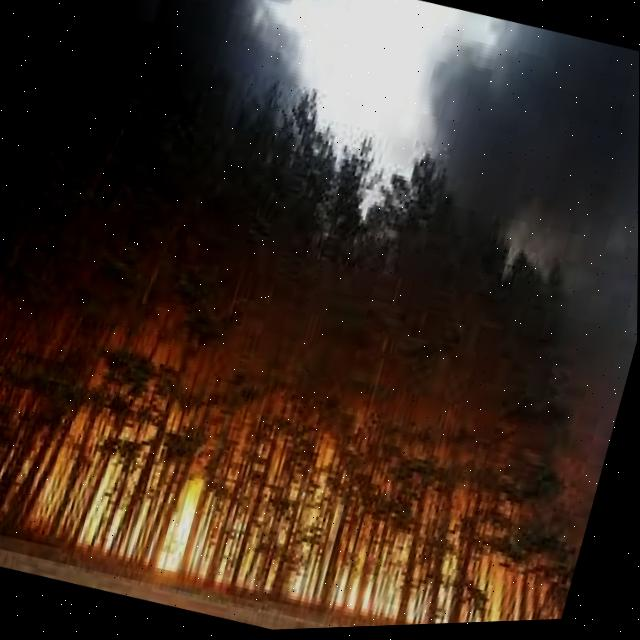smoke: (432, 21, 640, 428), (51, 0, 296, 128)
